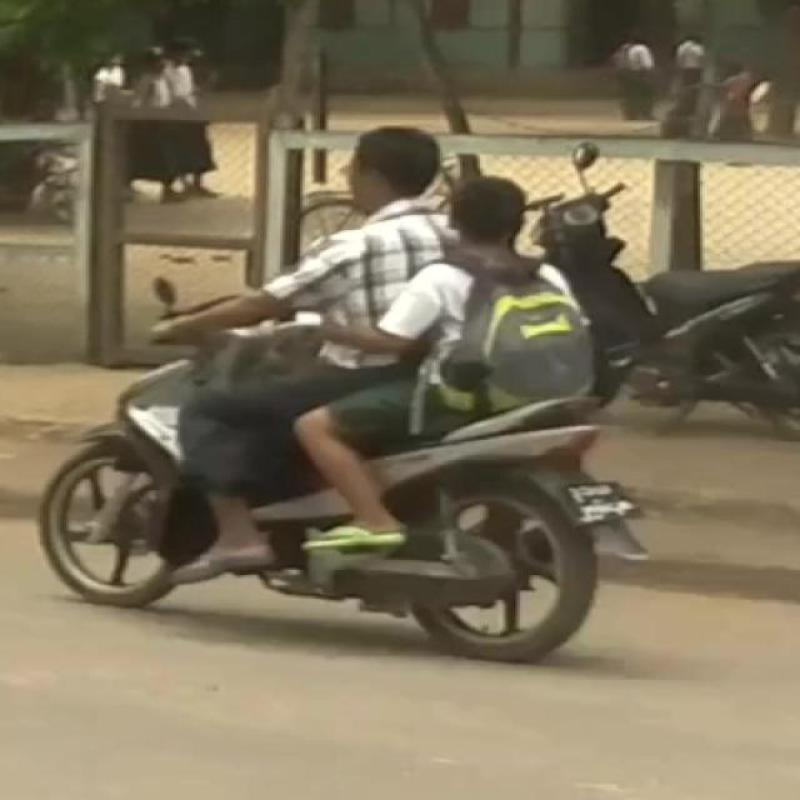nohelmet: (310, 105, 464, 220)
